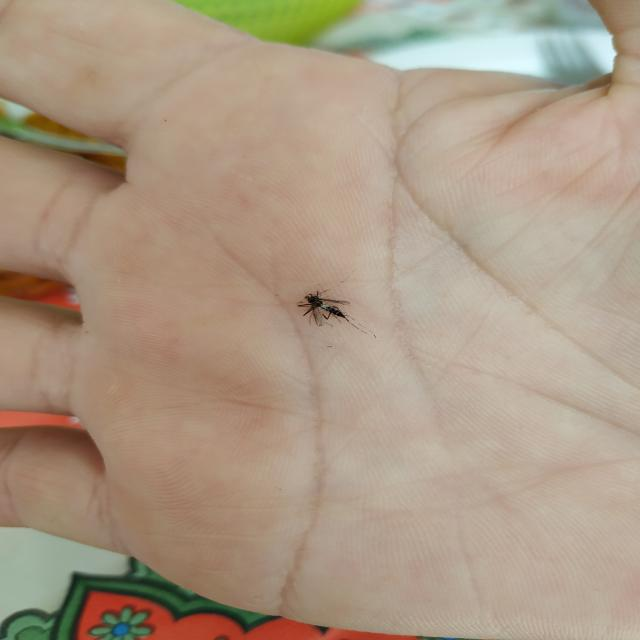albopictus: (284, 264, 376, 342)
